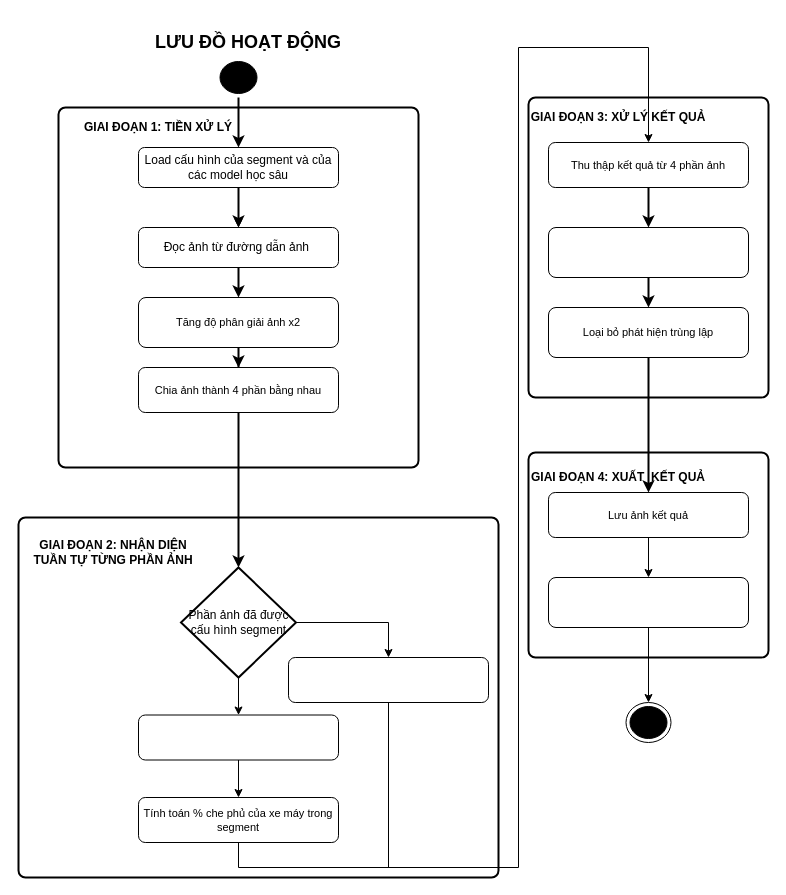
Some shapes in this 786 by 895 pixel diagram are drawn without their labels. The shapes that lost their labels are listed below. From the top down, each one's centre as x and y in pixels, then its label:
point (648, 252): Ghép 4 phần ảnh
point (648, 602): Ghi số liệu vào CSV
point (388, 679): Dùng YOLO để nhận diện xe máy - xe hơi và đếm số lượng
point (238, 737): Dùng model YOLO để nhận diện xe hơi và đếm số xe hơi
